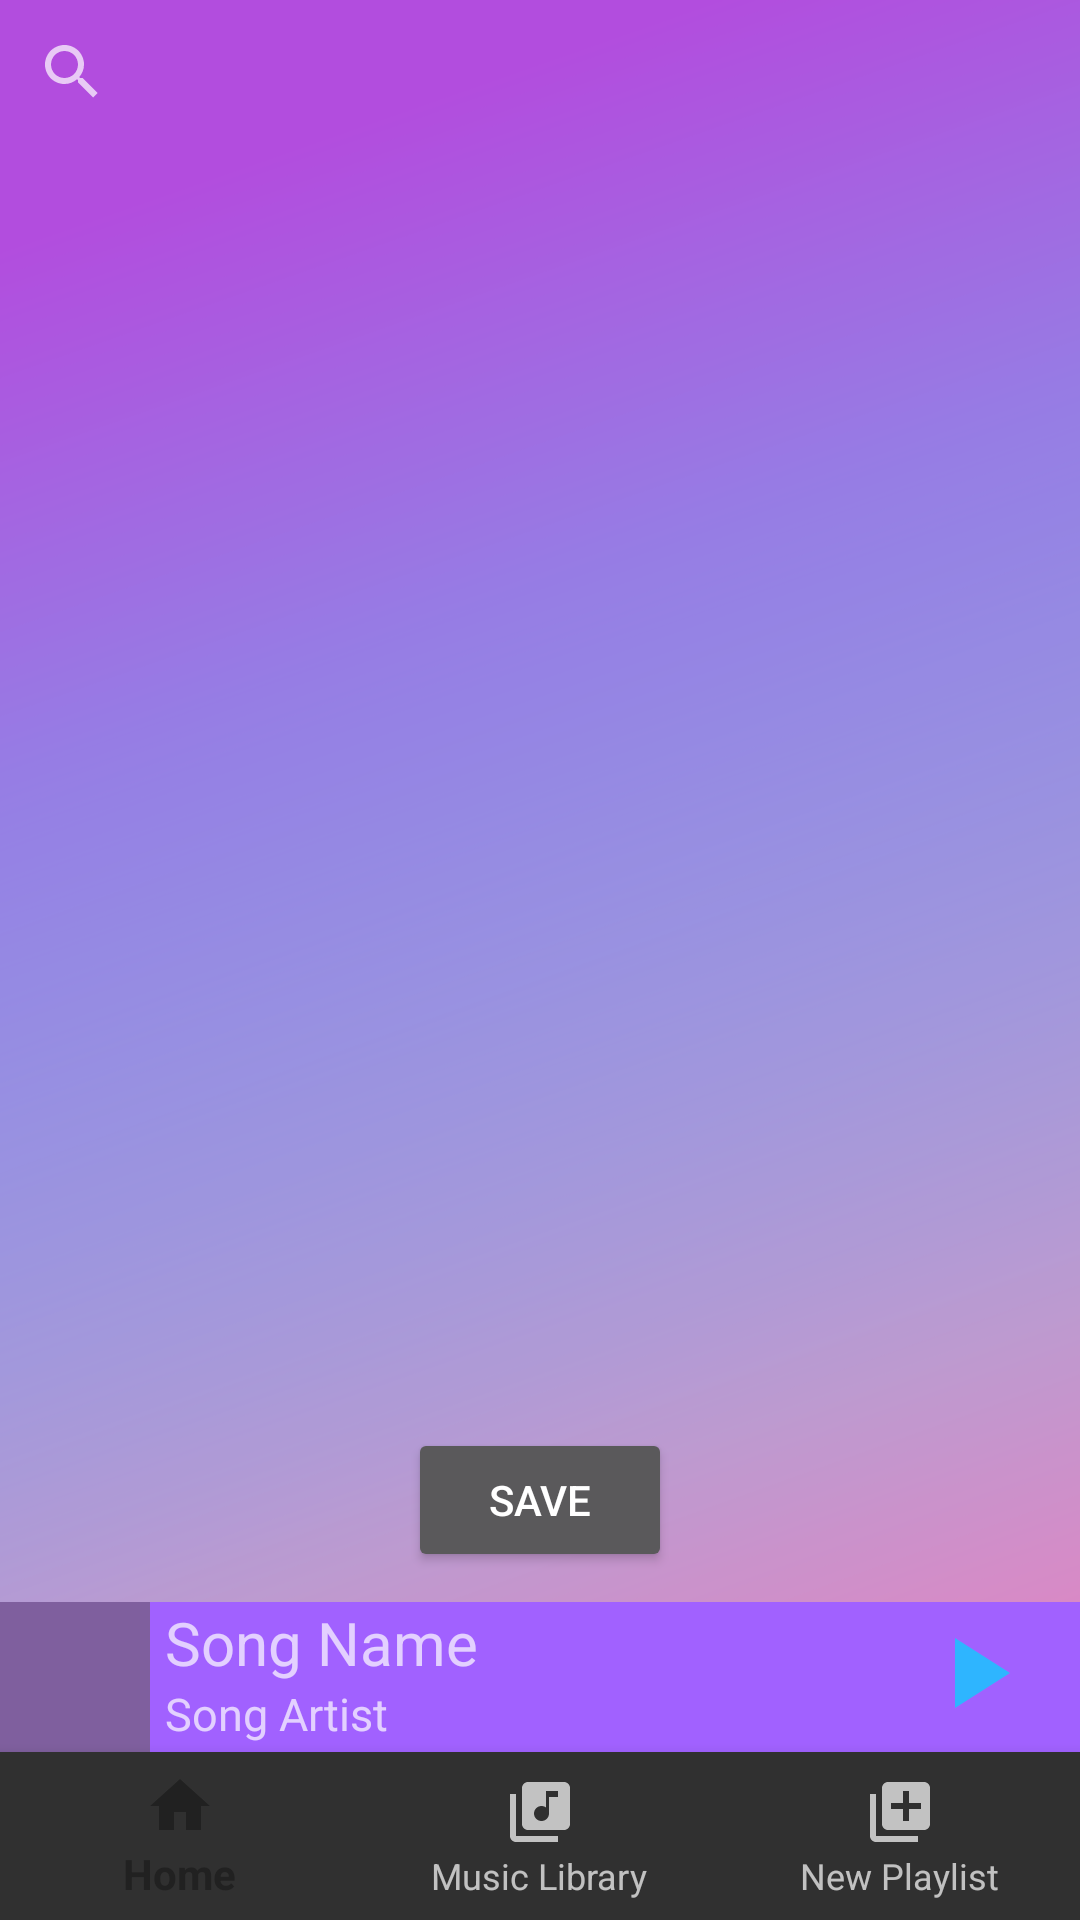

Where to tap for icons on this 1080 x 1920 app screen, as (x,y):
play arrow: (982,1673)
